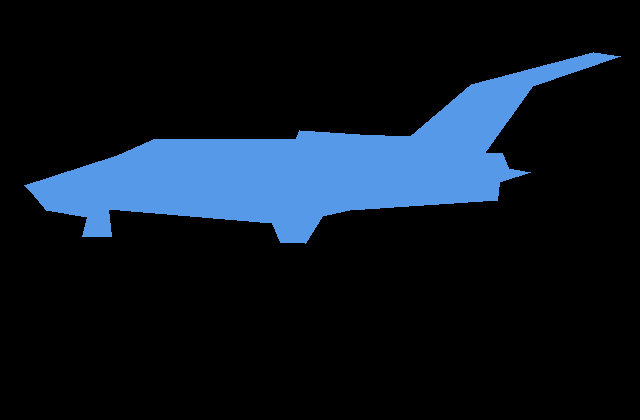Airplane: (24, 52, 620, 243)
